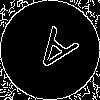A: (25, 25, 80, 82)
